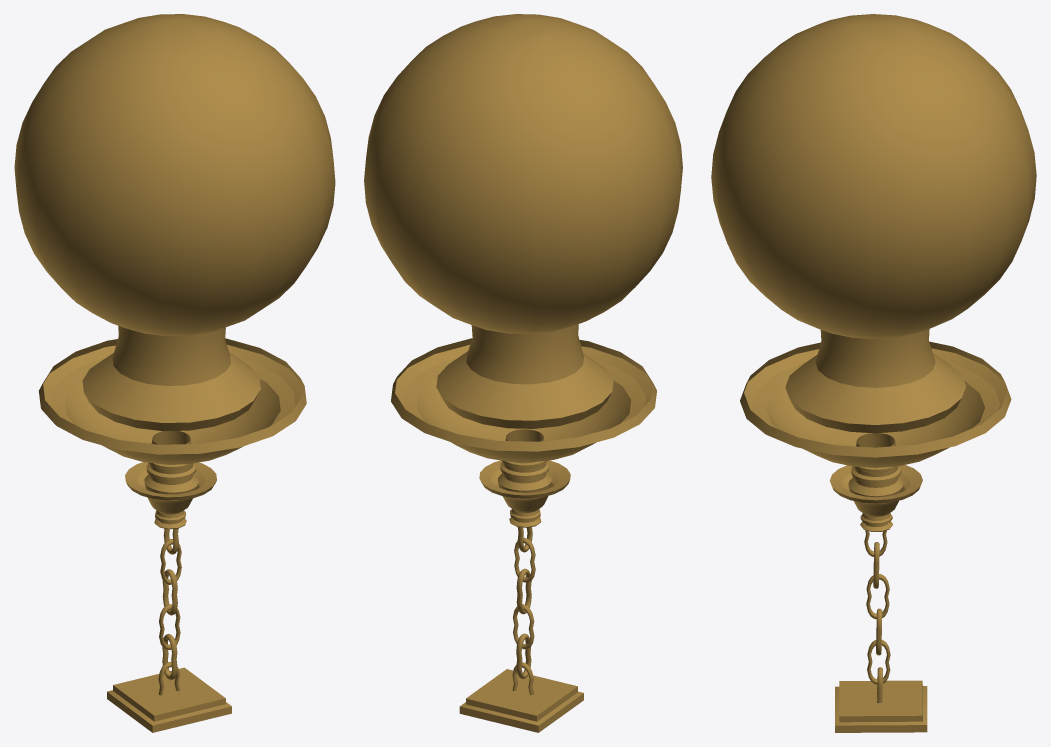
The model's file is Light.fbx.
3 renders of one model, left to right at view 1: azimuth 30°, elevation 25°; view 2: azimuth 150°, elevation 25°; view 3: azimuth 270°, elevation 25°, orthographic.
Parts seen in each view (by area): view 1: Manic_Media_Light:Lamp5; view 2: Manic_Media_Light:Lamp5; view 3: Manic_Media_Light:Lamp5.
Part boxes in pixels (x1,y1,x2,y2): Manic_Media_Light:Lamp5: (14, 14, 335, 732); Manic_Media_Light:Lamp5: (364, 14, 682, 732); Manic_Media_Light:Lamp5: (711, 14, 1036, 732).
Bounding box in the file's own units: 40 × 92.73 × 40.
